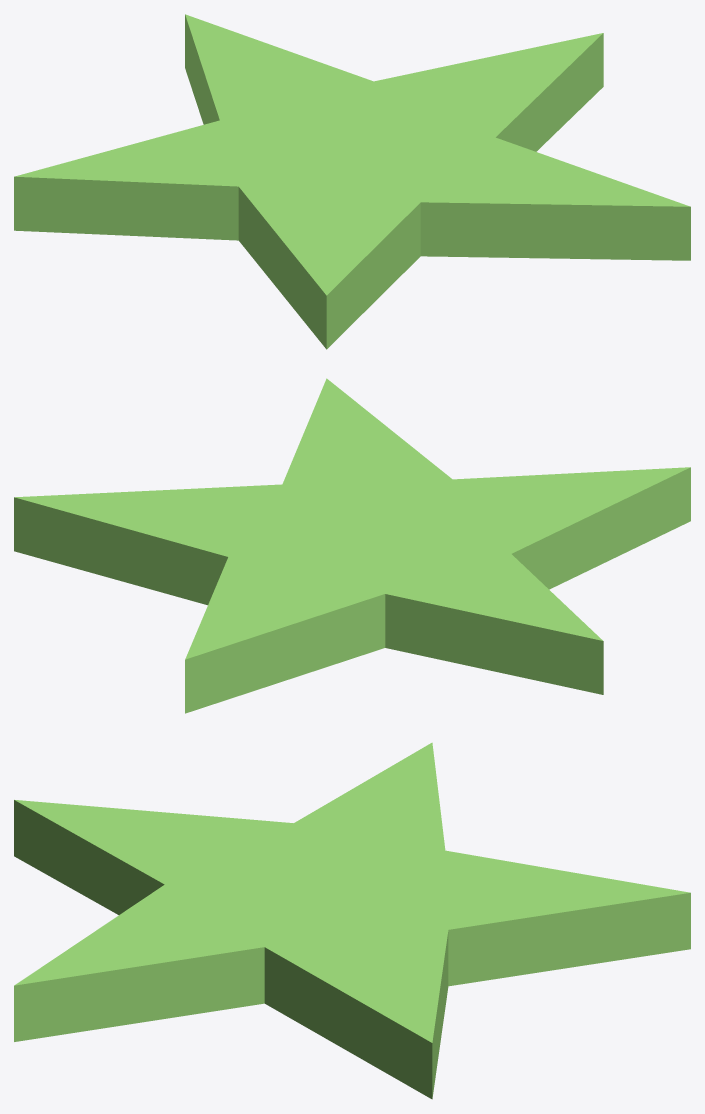
Rendered from star_glow.fbx.
The picture shows the model from 3 angles, top to bottom: view 1: azimuth 30°, elevation 25°; view 2: azimuth 150°, elevation 25°; view 3: azimuth 270°, elevation 25°; orthographic projection. The views are drawn at different scales.
Parts seen in each view (by area): view 1: pCylinder1; view 2: pCylinder1; view 3: pCylinder1.
Boxes of the visible parts, left/top/right/bottom form: pCylinder1: left=14, top=14, right=690, bottom=349; pCylinder1: left=14, top=378, right=690, bottom=713; pCylinder1: left=14, top=742, right=690, bottom=1099.
Size of the model in its own units: 7.48 by 0.6546 by 7.11.
